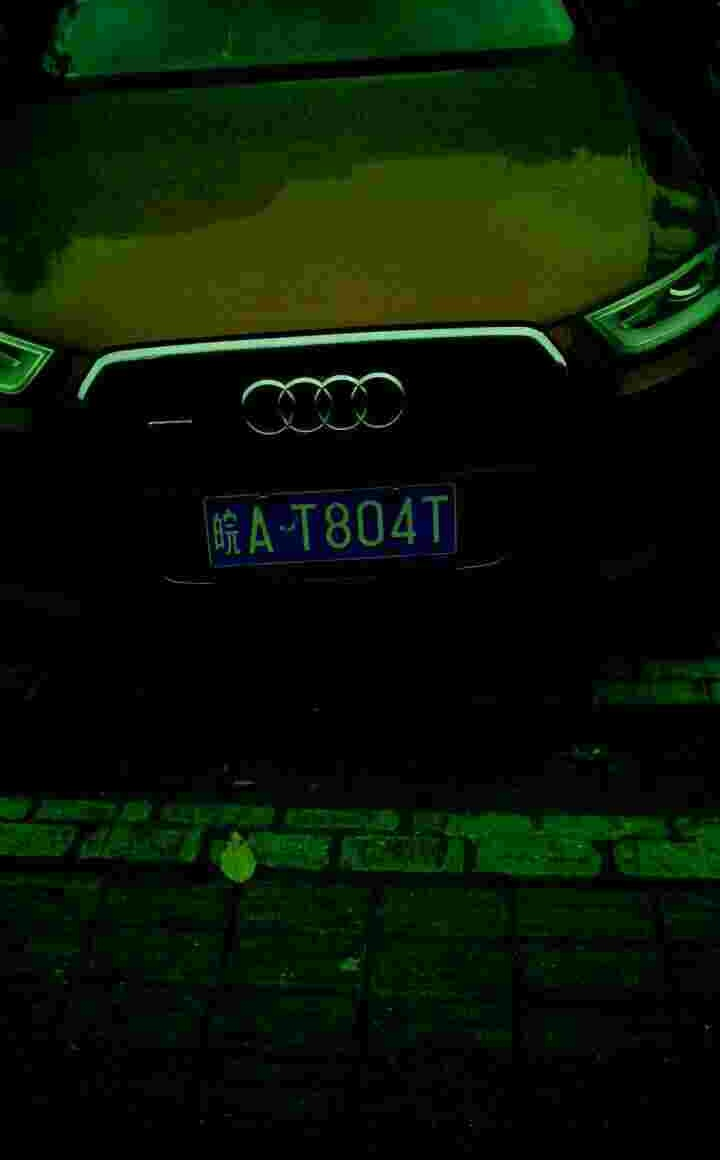license_plate: (194, 486, 459, 564)
